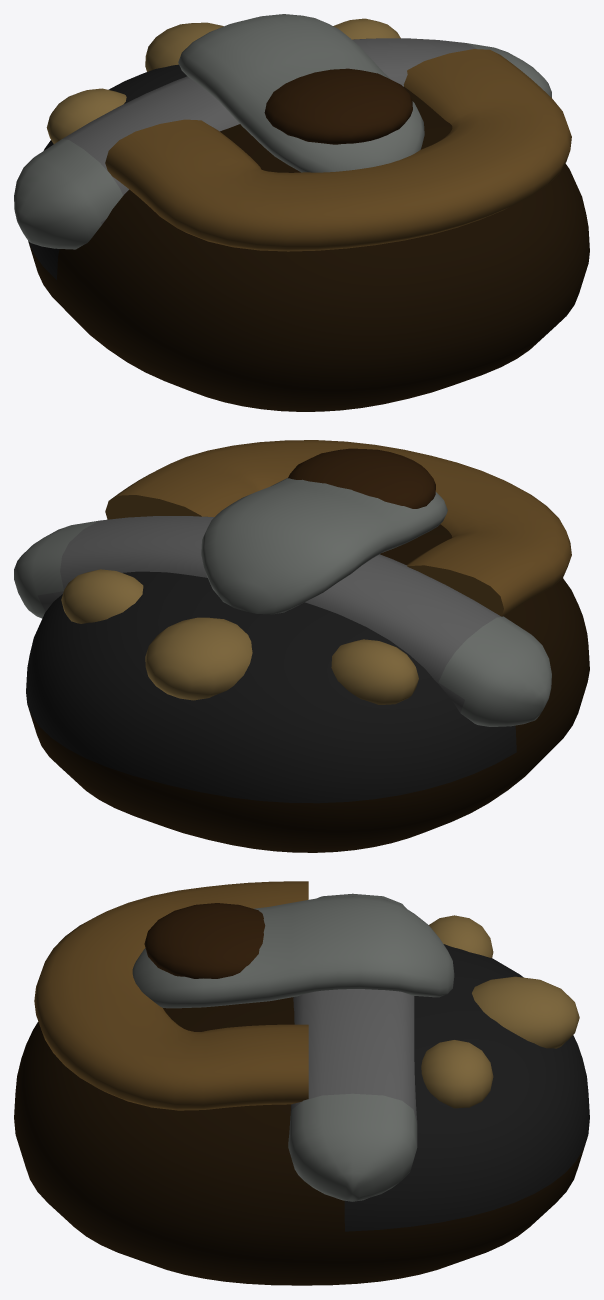
The model's file is pod_161.glb.
3 views of the same model, one above another, from view 1: azimuth 30°, elevation 25°; view 2: azimuth 150°, elevation 25°; view 3: azimuth 270°, elevation 25° (orthographic).
Parts seen in each view (by area): view 1: shell, horseshoe, bar, visor, lens, knob1, knob0, knob2; view 2: shell, bar, horseshoe, visor, knob0, lens, knob1, knob2; view 3: shell, horseshoe, bar, visor, lens, knob0, knob2, knob1.
Part boxes in pixels (box(x1,y1,x2,y2)): shell: box(28, 64, 589, 411); horseshoe: box(105, 49, 571, 251); bar: box(14, 38, 551, 249); visor: box(178, 14, 424, 172); lens: box(264, 68, 412, 144); knob1: box(46, 88, 126, 143); knob0: box(145, 22, 223, 71); knob2: box(333, 18, 400, 39); shell: box(26, 524, 589, 852); bar: box(14, 516, 551, 726); horseshoe: box(105, 440, 571, 616); visor: box(201, 478, 447, 614); knob0: box(145, 617, 252, 700); lens: box(288, 448, 435, 508); knob1: box(331, 639, 418, 704); knob2: box(61, 569, 143, 623); shell: box(14, 944, 589, 1285); horseshoe: box(34, 881, 308, 1110); bar: box(288, 893, 417, 1201); visor: box(132, 896, 454, 1008); lens: box(144, 903, 265, 978); knob0: box(472, 976, 579, 1048); knob2: box(421, 1040, 493, 1108); knob1: box(429, 915, 493, 957).
Size of the model in its own units: 18.32 by 10.42 by 17.
